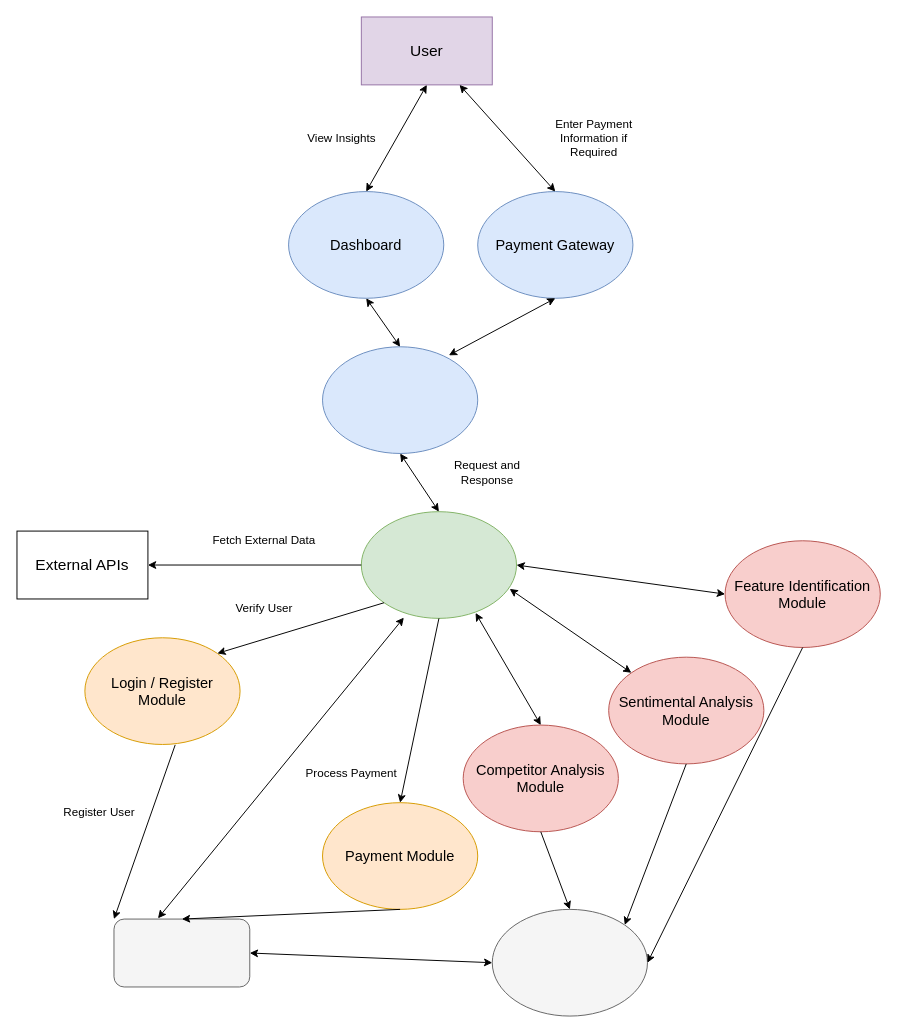
Image size: 897x1033. Some labels were removed from this diagram. The shapes that lost their labels are listed below. From the top down, each one's centre as x and y in pixels, then its label:
point 400,399: Frontend
point 438,564: System(Backend)
point 181,952: Database(RDS)
point 569,962: NLP / ML Model
